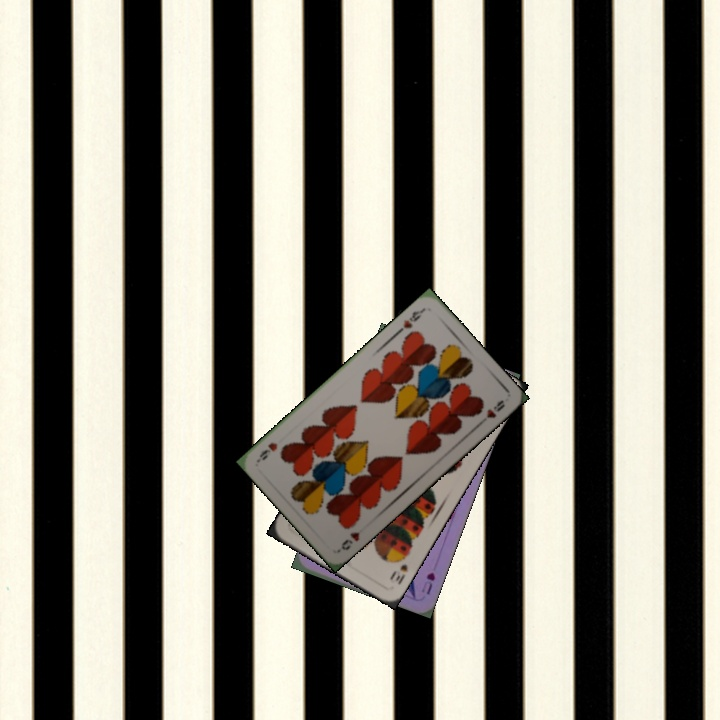H9: (399, 304, 427, 331), (337, 527, 362, 553)
HU: (422, 568, 438, 597)
S10: (386, 550, 411, 587)
